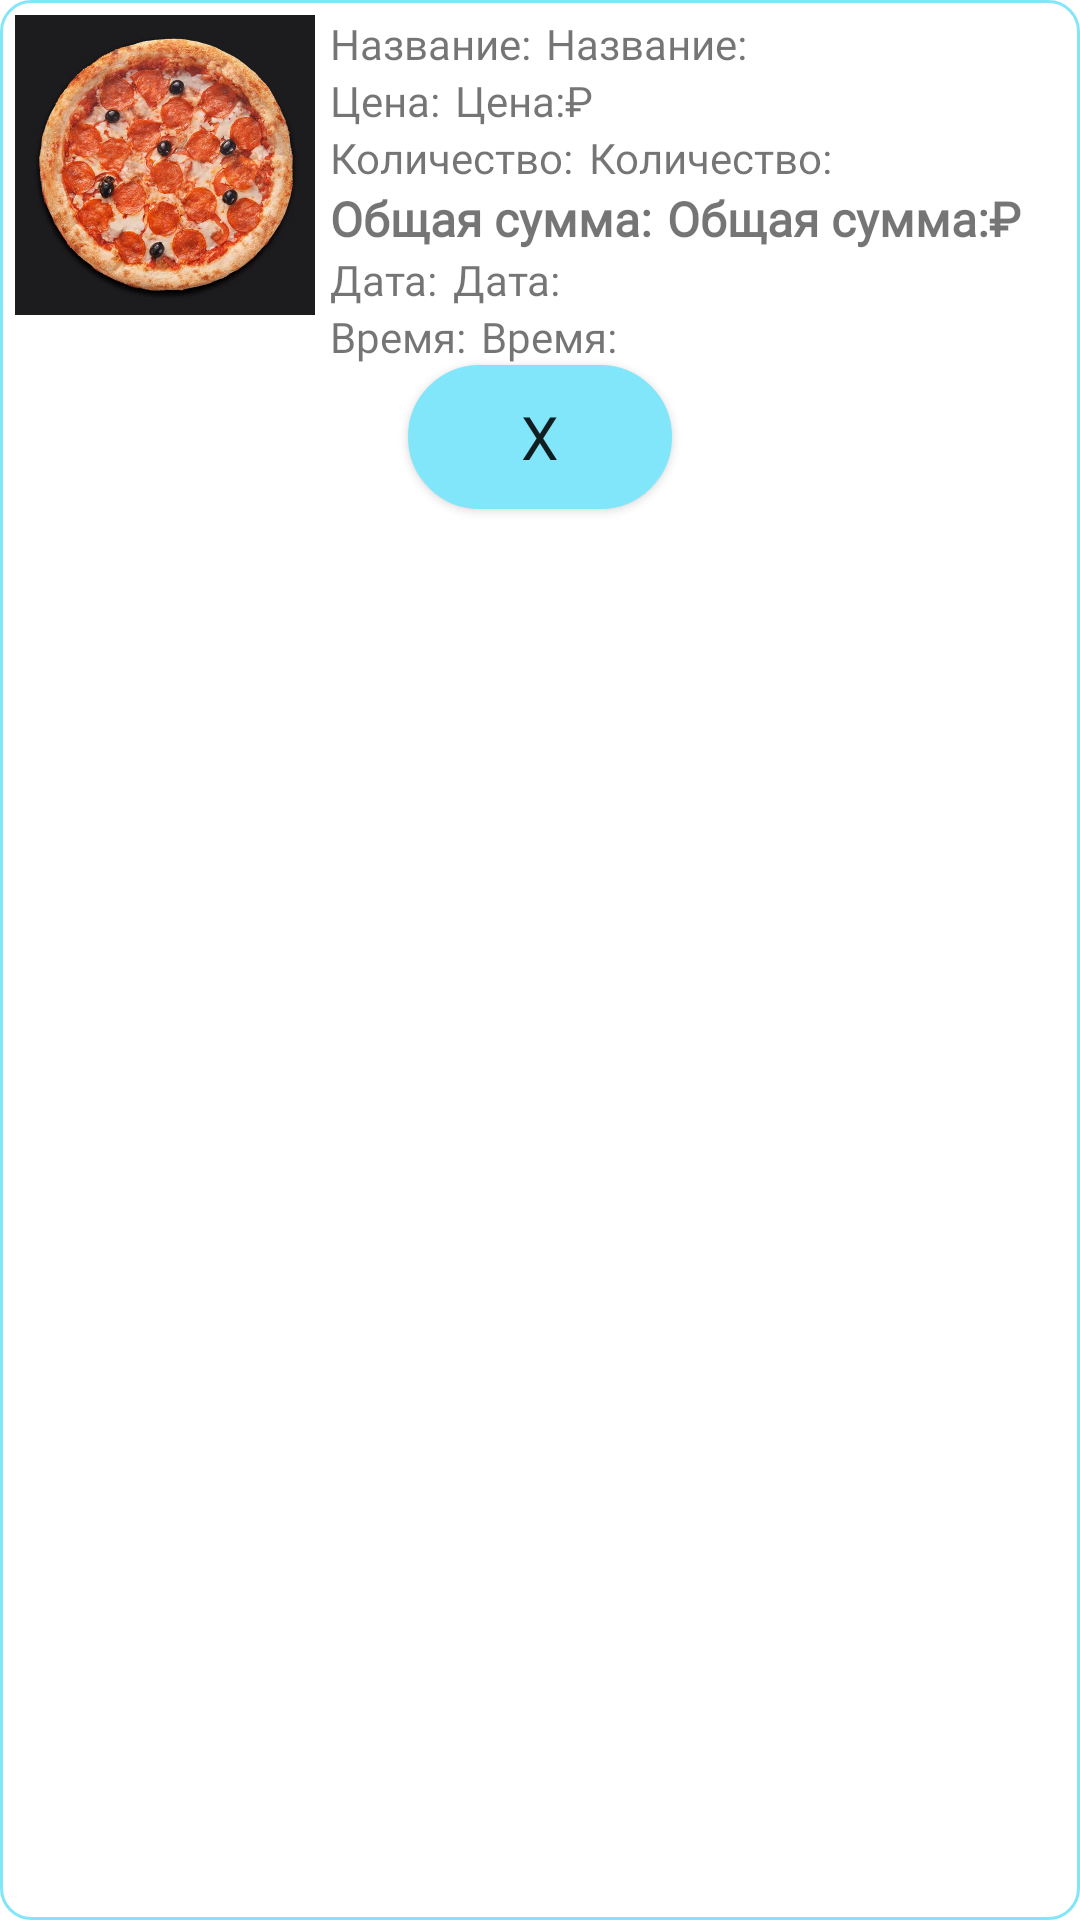

Icons on this 1080×1920 Android screen, each with its box as (x1, y1, x2, y2):
pepperoni: (15, 15, 315, 315)
